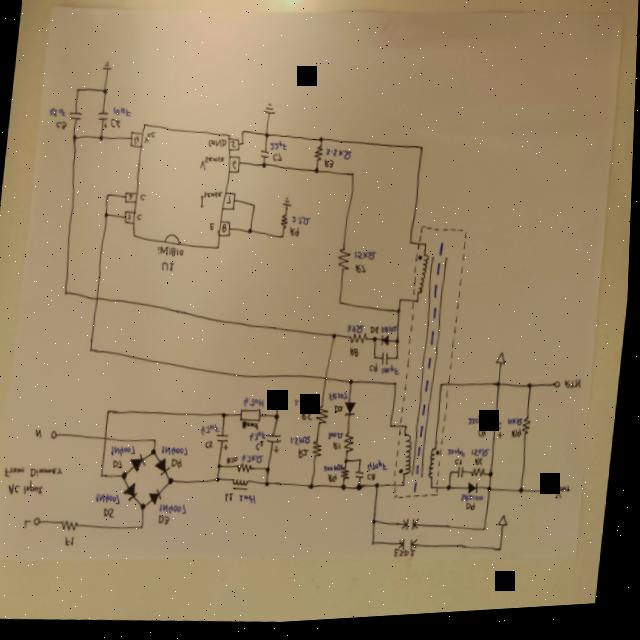capacitor: (267, 436, 285, 457), (490, 426, 507, 446), (218, 436, 233, 454), (97, 112, 110, 131), (68, 111, 84, 123), (357, 473, 369, 485), (259, 153, 271, 165), (383, 356, 392, 371), (460, 471, 468, 484)
crossover: (105, 437, 112, 443), (96, 297, 101, 303), (326, 379, 331, 385)
diode: (132, 455, 151, 475), (126, 482, 142, 504), (157, 459, 174, 479), (151, 490, 166, 507), (346, 405, 359, 421), (470, 487, 482, 500), (382, 338, 392, 352)
ground: (496, 356, 510, 372), (263, 105, 277, 119), (501, 520, 513, 533), (102, 61, 114, 73), (277, 393, 288, 406), (283, 200, 294, 212)
inductor: (401, 436, 421, 482), (418, 258, 436, 302), (422, 450, 441, 486), (241, 410, 265, 427), (235, 480, 253, 494)
junction: (418, 148, 426, 157), (529, 388, 536, 397), (101, 88, 108, 97), (521, 493, 528, 502), (72, 135, 79, 143), (248, 230, 255, 238), (153, 450, 160, 458), (311, 486, 318, 494), (359, 488, 366, 496), (261, 164, 268, 172), (124, 473, 131, 481), (171, 479, 178, 487), (396, 497, 403, 505), (143, 505, 150, 512), (98, 135, 104, 143), (102, 473, 108, 481), (498, 386, 504, 394), (90, 348, 96, 355), (378, 486, 384, 493), (374, 340, 379, 348), (449, 490, 455, 496), (276, 417, 282, 423), (491, 477, 497, 483), (463, 234, 469, 240), (315, 171, 320, 178), (65, 290, 70, 297), (109, 410, 114, 417), (486, 532, 491, 539), (375, 523, 380, 530), (397, 359, 402, 366), (347, 462, 352, 469), (334, 336, 339, 343), (490, 491, 495, 498), (143, 526, 148, 532), (501, 552, 506, 558), (340, 303, 345, 309), (253, 206, 258, 212), (105, 213, 110, 219), (400, 302, 405, 308), (351, 176, 356, 182), (398, 313, 403, 319), (265, 136, 270, 142), (155, 440, 160, 446), (268, 484, 273, 490), (224, 415, 229, 421), (417, 303, 422, 309), (220, 465, 224, 472), (352, 383, 356, 390), (219, 479, 223, 485), (242, 132, 246, 138), (106, 194, 110, 200), (375, 545, 379, 551), (410, 245, 414, 251), (396, 386, 400, 392), (76, 88, 80, 94), (442, 387, 446, 393), (391, 428, 395, 434), (282, 237, 286, 243), (269, 470, 273, 476), (362, 462, 366, 468), (241, 144, 245, 150), (397, 343, 401, 349), (425, 247, 429, 253), (422, 230, 426, 235), (320, 141, 324, 146), (375, 359, 379, 364), (453, 476, 457, 481), (433, 490, 437, 495), (406, 429, 410, 434), (439, 497, 443, 502), (405, 488, 409, 492)
resistor: (337, 251, 354, 276), (318, 408, 332, 430), (64, 520, 83, 534), (346, 436, 358, 458), (352, 335, 370, 349), (314, 444, 326, 462), (239, 465, 256, 477), (314, 148, 325, 166), (524, 423, 534, 442), (343, 470, 354, 486), (474, 473, 489, 484), (281, 216, 290, 233)
terminal: (52, 430, 61, 441), (36, 517, 44, 526), (549, 493, 557, 502), (556, 388, 564, 396)
text: (7, 464, 66, 482), (10, 478, 48, 498), (157, 245, 186, 262), (162, 503, 191, 519), (201, 192, 224, 212), (112, 444, 139, 461), (97, 492, 124, 509), (201, 157, 226, 175), (325, 151, 353, 166), (164, 446, 192, 460), (296, 399, 321, 414), (354, 253, 379, 267), (244, 455, 267, 469), (202, 425, 223, 440), (246, 398, 268, 412), (370, 463, 392, 477), (558, 491, 575, 509), (383, 368, 403, 382), (398, 552, 421, 564), (470, 421, 492, 433), (330, 394, 352, 406), (292, 438, 314, 450), (291, 218, 313, 230), (464, 498, 488, 509), (48, 107, 68, 120), (241, 496, 261, 509), (567, 384, 585, 398), (449, 452, 470, 464), (113, 107, 133, 119), (208, 140, 228, 152), (270, 142, 289, 154), (348, 327, 367, 339), (244, 423, 262, 435), (161, 261, 176, 275), (326, 467, 347, 477), (473, 454, 494, 464), (252, 434, 269, 446), (330, 435, 347, 445), (383, 329, 400, 339), (355, 267, 369, 279), (509, 423, 525, 433), (113, 460, 126, 472), (106, 508, 119, 520), (144, 133, 156, 146), (290, 230, 302, 242), (300, 451, 312, 463), (229, 458, 242, 469), (161, 516, 174, 527), (67, 536, 78, 549), (351, 350, 362, 363), (111, 119, 123, 130), (174, 460, 186, 471), (480, 432, 490, 445), (303, 415, 316, 425), (55, 121, 68, 131), (37, 427, 46, 441), (371, 329, 382, 340), (330, 476, 341, 487), (273, 155, 284, 166), (324, 162, 335, 173), (514, 433, 525, 444), (258, 443, 268, 455), (335, 408, 347, 418), (371, 367, 381, 378), (335, 444, 345, 455), (469, 507, 480, 517), (228, 494, 237, 506), (27, 519, 36, 531), (207, 443, 217, 452), (477, 463, 487, 472), (370, 477, 379, 486), (134, 136, 141, 147), (226, 197, 233, 208), (222, 226, 229, 236), (230, 143, 238, 151), (458, 464, 466, 472), (210, 225, 217, 234), (127, 214, 134, 223), (232, 162, 238, 172), (137, 215, 144, 223), (141, 195, 148, 203), (129, 195, 136, 202)
